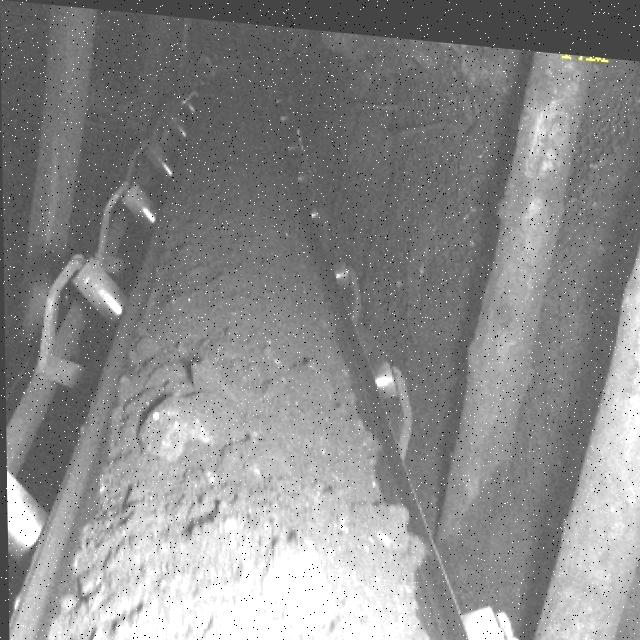large_sized_coal: (135, 388, 240, 468), (263, 529, 336, 609), (348, 493, 425, 562), (221, 431, 292, 480)
